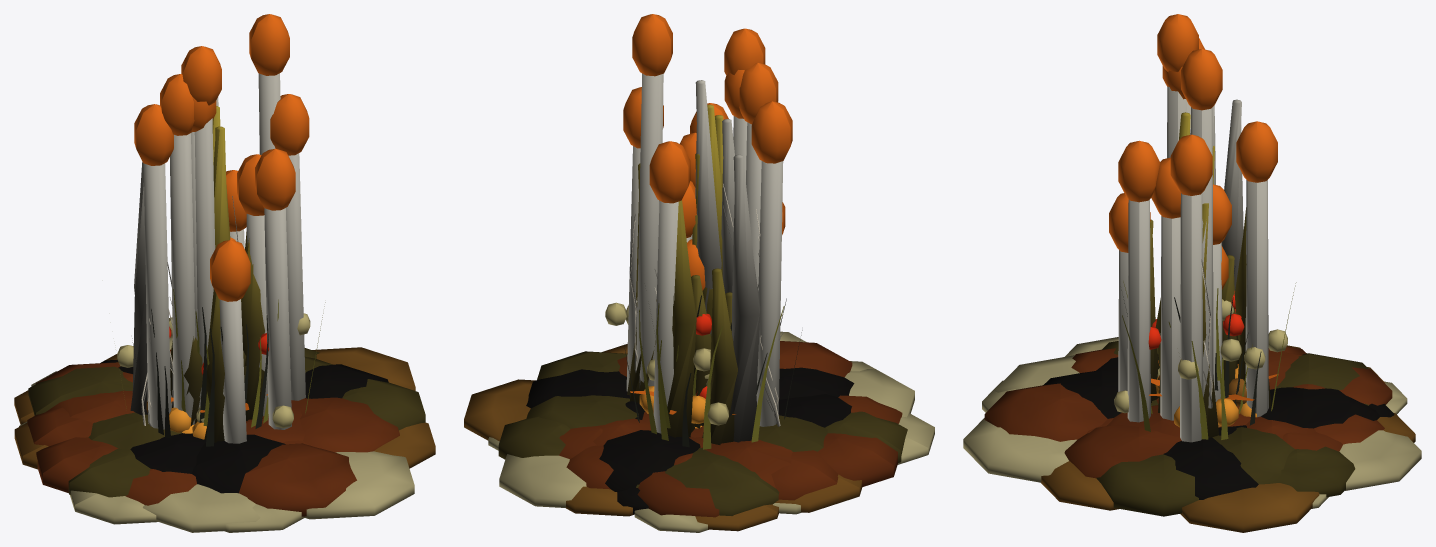
Rendered from flora_vents.glb.
3 renders of one model, left to right at view 1: azimuth 30°, elevation 25°; view 2: azimuth 150°, elevation 25°; view 3: azimuth 270°, elevation 25°, orthographic.
Visible parts, largest first — view 1: heat_siphon_tubeworm_flora, eruptor_algae, scald_crust, slag_moss, soot_algae, forge_crust, smoker_stalk, pyre_moss, ash_spire, choke_vent_grass, ventricle_spire, grit_spores (+3 smaller); view 2: heat_siphon_tubeworm_flora, slag_moss, ash_spire, soot_algae, scald_crust, eruptor_algae, pyre_moss, forge_crust, vapor_stalk, smoker_stalk, sulfur_vent_grass, grit_spores (+3 smaller); view 3: heat_siphon_tubeworm_flora, slag_moss, eruptor_algae, scald_crust, soot_algae, forge_crust, pyre_moss, ash_spire, vapor_stalk, grit_spores, smoker_stalk, sulfur_vent_grass (+3 smaller).
Boxes of the visible parts, <box> form: heat_siphon_tubeworm_flora: <box>134,14,309,443</box>; eruptor_algae: <box>27,397,399,516</box>; scald_crust: <box>19,338,414,532</box>; slag_moss: <box>28,348,425,497</box>; soot_algae: <box>100,357,388,493</box>; forge_crust: <box>14,347,435,469</box>; smoker_stalk: <box>194,229,264,442</box>; pyre_moss: <box>35,349,321,505</box>; ash_spire: <box>130,97,218,415</box>; choke_vent_grass: <box>132,307,268,446</box>; ventricle_spire: <box>212,106,230,248</box>; grit_spores: <box>117,313,310,428</box>; heat_siphon_tubeworm_flora: <box>623,14,792,433</box>; slag_moss: <box>498,351,907,515</box>; ash_spire: <box>695,80,760,442</box>; soot_algae: <box>526,367,854,514</box>; scald_crust: <box>488,331,934,532</box>; eruptor_algae: <box>593,341,897,500</box>; pyre_moss: <box>559,395,902,517</box>; forge_crust: <box>464,344,862,531</box>; vapor_stalk: <box>627,163,732,437</box>; smoker_stalk: <box>691,153,737,444</box>; sulfur_vent_grass: <box>639,303,784,449</box>; grit_spores: <box>605,302,728,425</box>; heat_siphon_tubeworm_flora: <box>1109,14,1277,442</box>; slag_moss: <box>1096,341,1368,516</box>; eruptor_algae: <box>984,346,1315,478</box>; scald_crust: <box>963,337,1421,508</box>; soot_algae: <box>1043,354,1394,499</box>; forge_crust: <box>1041,345,1415,532</box>; pyre_moss: <box>1071,348,1392,451</box>; ash_spire: <box>1190,99,1243,290</box>; vapor_stalk: <box>1202,203,1271,437</box>; grit_spores: <box>1114,299,1287,413</box>; smoker_stalk: <box>1150,146,1238,412</box>; sulfur_vent_grass: <box>1122,281,1296,439</box>.
Bounding box in the file's own units: 1.85 × 1.9 × 1.88.
